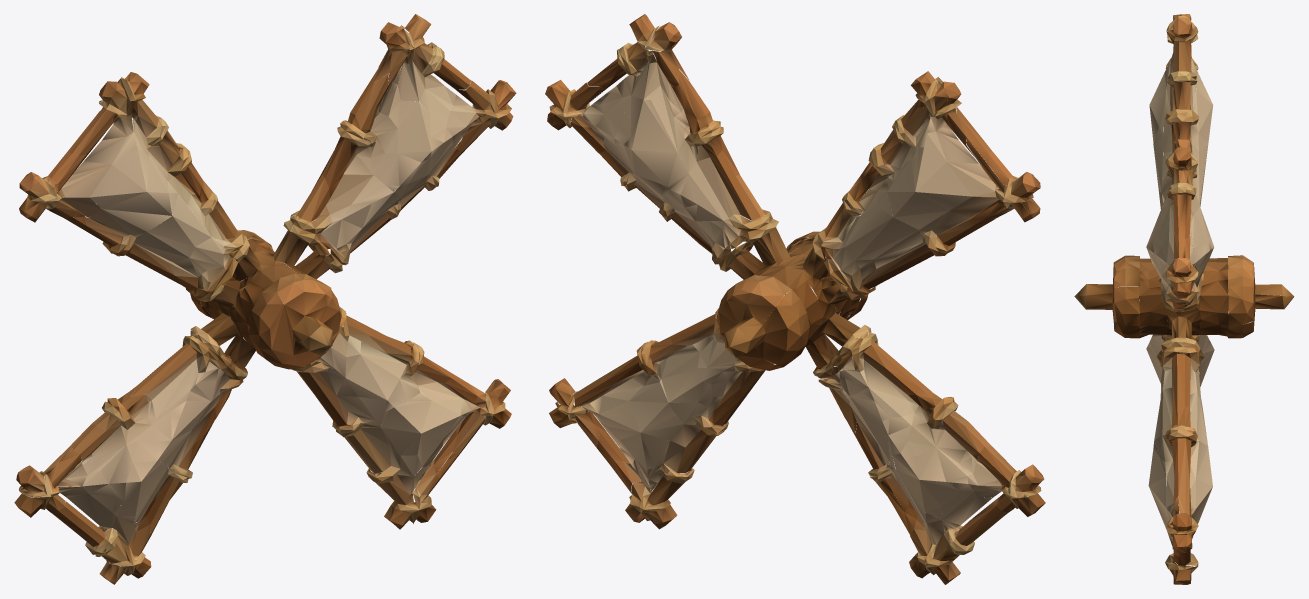
The model's file is building-windmill-rotor-tripo.glb.
The picture shows the model from 3 angles, left to right: view 1: azimuth 30°, elevation 25°; view 2: azimuth 150°, elevation 25°; view 3: azimuth 270°, elevation 25°; orthographic projection. The views are drawn at different scales.
Visible parts, largest first — view 1: 0_windmill-rotor; view 2: 0_windmill-rotor; view 3: 0_windmill-rotor.
Boxes of the visible parts, x1=… form: 0_windmill-rotor: x1=14, y1=14, x2=516, y2=584; 0_windmill-rotor: x1=545, y1=14, x2=1045, y2=584; 0_windmill-rotor: x1=1074, y1=14, x2=1294, y2=584.
Bounding box in the file's own units: 2.15 × 2.16 × 0.96.
